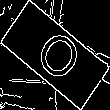O_SW: (26, 22, 84, 88)
